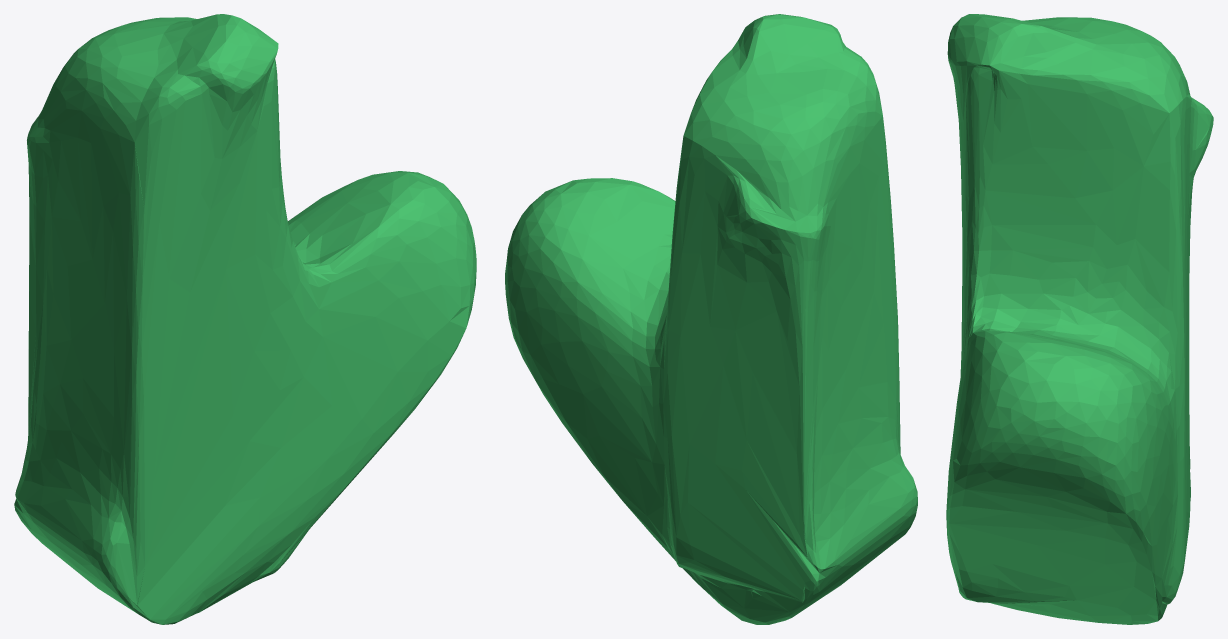
3 renders of one model, left to right at view 1: azimuth 30°, elevation 25°; view 2: azimuth 150°, elevation 25°; view 3: azimuth 270°, elevation 25°, orthographic. The views are drawn at different scales.
Parts seen in each view (by area): view 1: 349_Cube.1426; view 2: 349_Cube.1426; view 3: 349_Cube.1426.
Boxes of the visible parts, x1,y1,x2,y2 form: 349_Cube.1426: (14, 14, 476, 624); 349_Cube.1426: (505, 14, 917, 624); 349_Cube.1426: (946, 14, 1213, 624).
Size of the model in its own units: 9.79 by 14.06 by 5.48.
